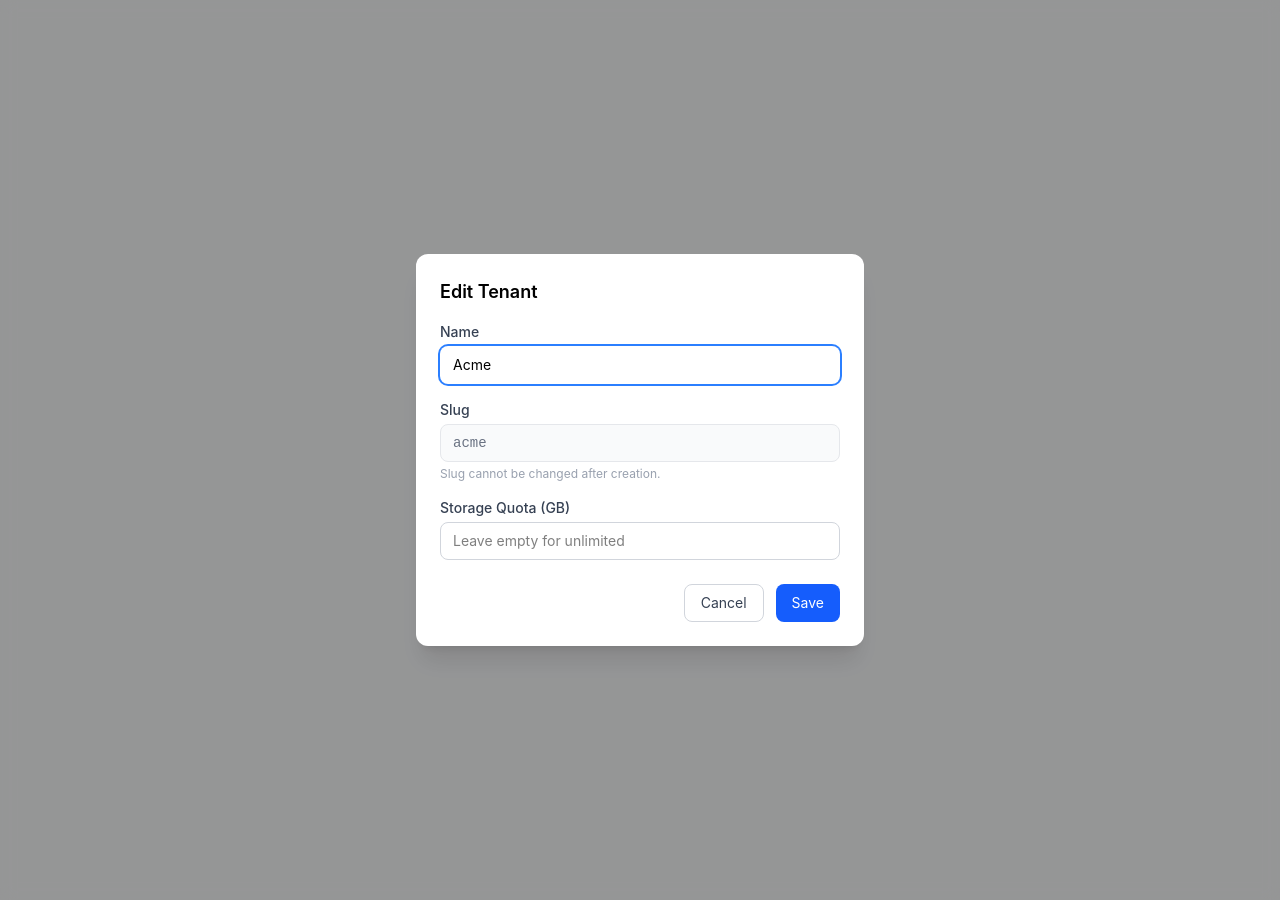
Test: EditTenantDialog › shows error on update failure
Replace the text in the field labelled "Name" with "New Name" at x=640, y=365, box [440, 346, 840, 384]
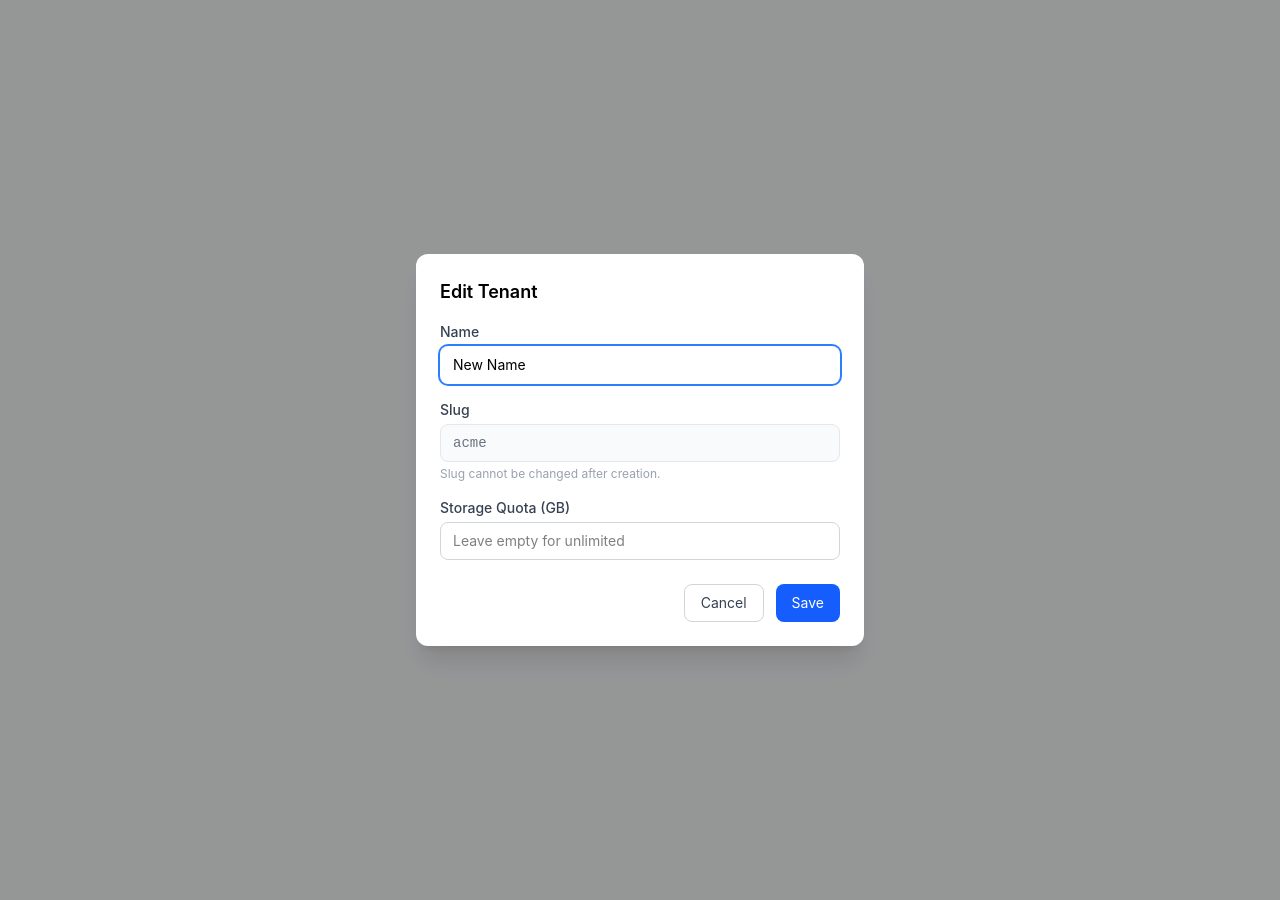
Click the button "Save" at x=808, y=603, box [776, 584, 840, 622]
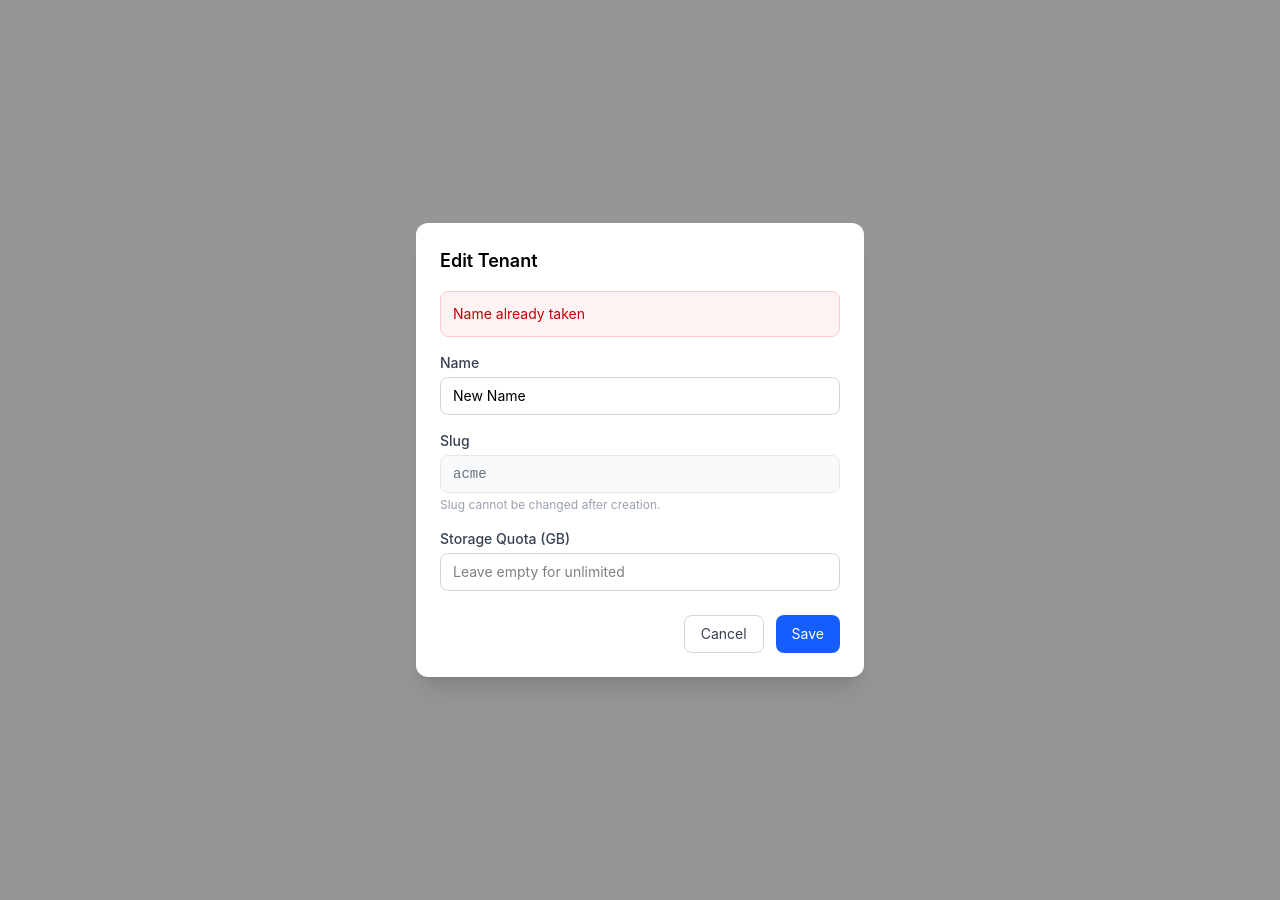
expect the text "Name already taken" is shown: met, box [440, 291, 840, 337]
